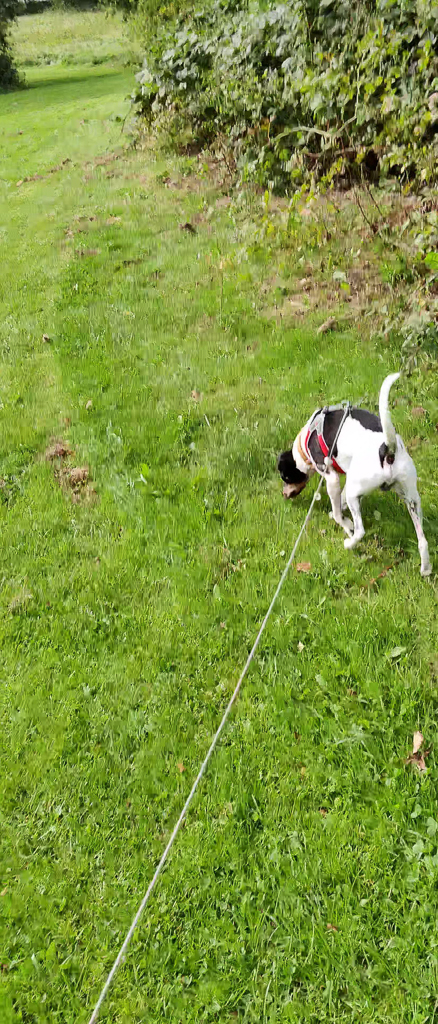Dog: (265, 367, 436, 584)
